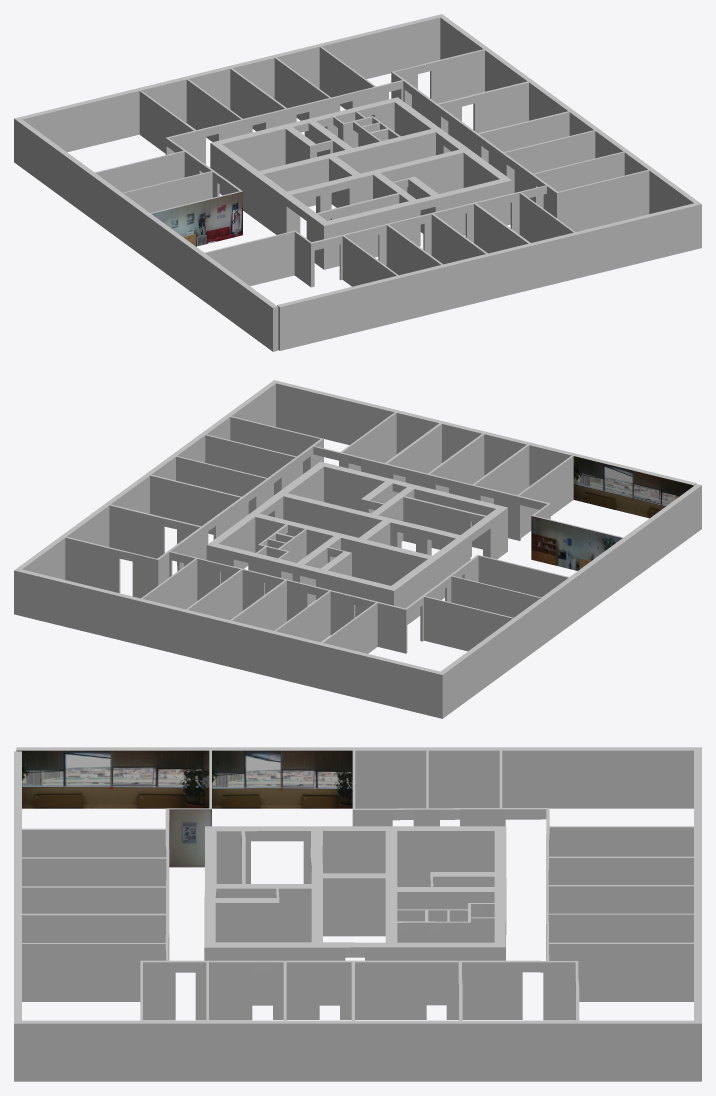
Rendered from 7thmap3.dae.
3 renders of one model, top to bottom at view 1: azimuth 30°, elevation 25°; view 2: azimuth 150°, elevation 25°; view 3: azimuth 270°, elevation 25°, orthographic. The views are drawn at different scales.
Visible parts, largest first — view 1: Walls; view 2: Walls; view 3: Walls.
Boxes of the visible parts, x1,y1,x2,y2 form: Walls: (14, 14, 701, 351); Walls: (14, 380, 701, 718); Walls: (14, 747, 701, 1081).
Size of the model in its own units: 26.03 by 27.37 by 2.55.
